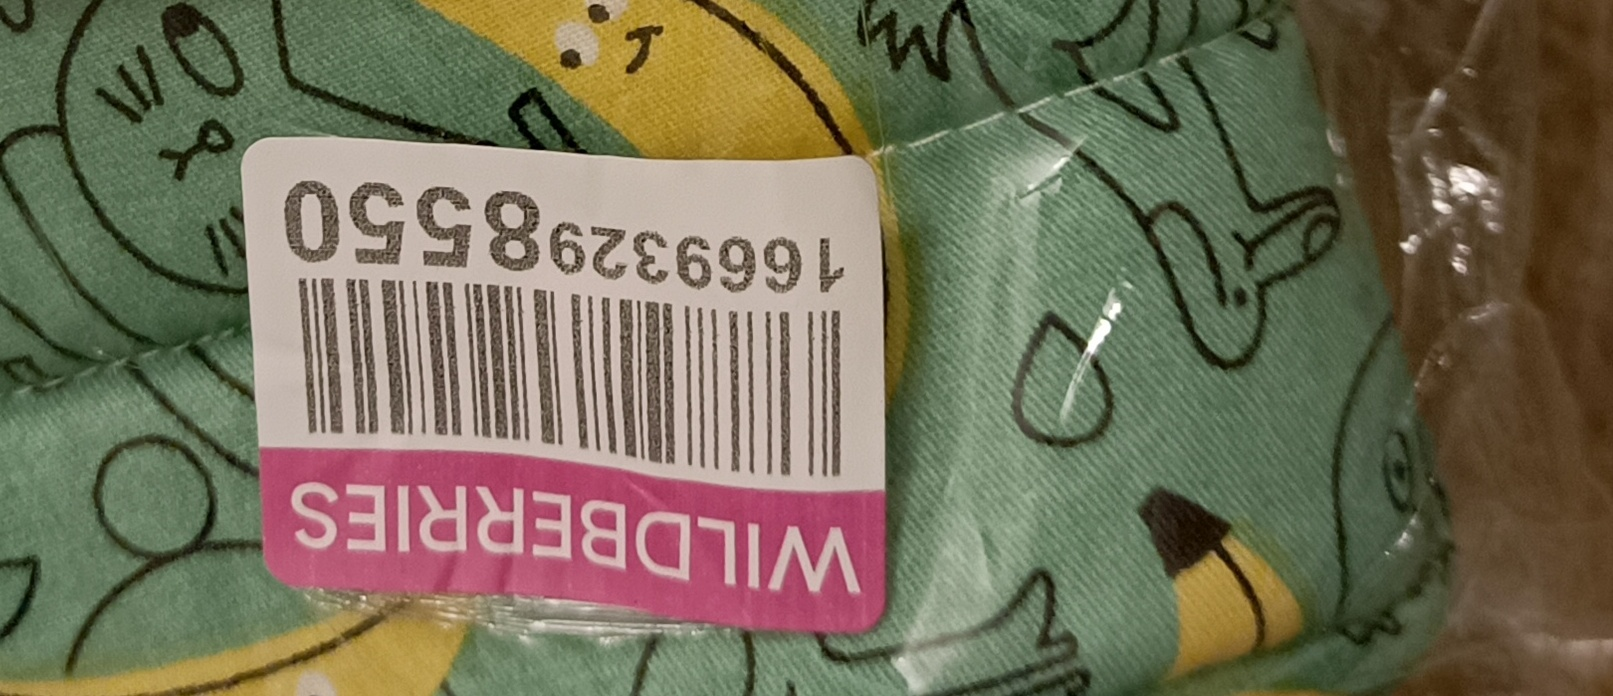1d: (285, 269, 851, 481)
